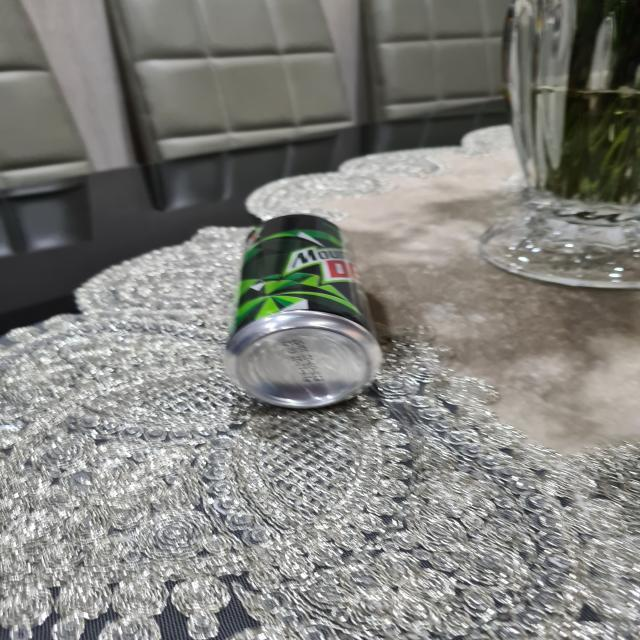can: (230, 212, 388, 414)
